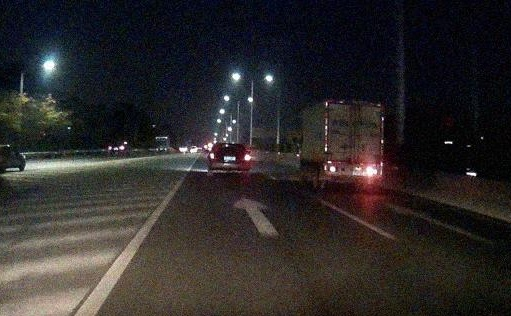L_light: (210, 153, 220, 160), (328, 166, 339, 172)
R_light: (365, 167, 377, 175), (242, 154, 250, 160)
T_light: (352, 102, 360, 107), (227, 145, 233, 147)
night-right: (322, 100, 384, 190), (209, 142, 251, 176)
